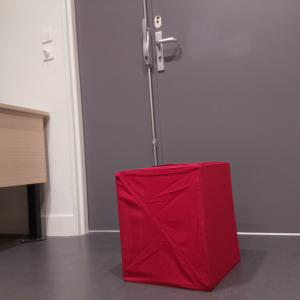medium: (113, 160, 243, 296)
